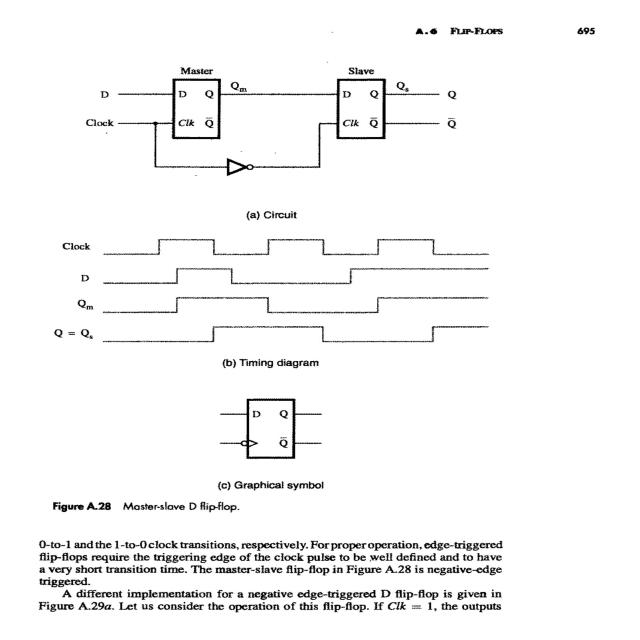diagram: (10, 62, 502, 536)
